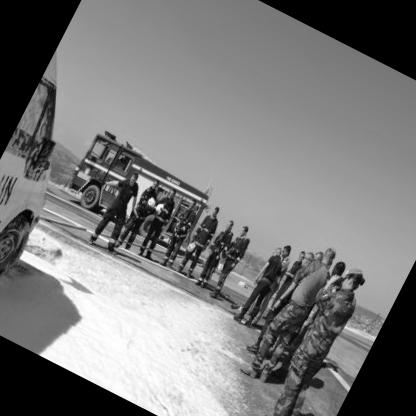bus: (1, 47, 120, 331)
truck: (48, 109, 233, 275)
